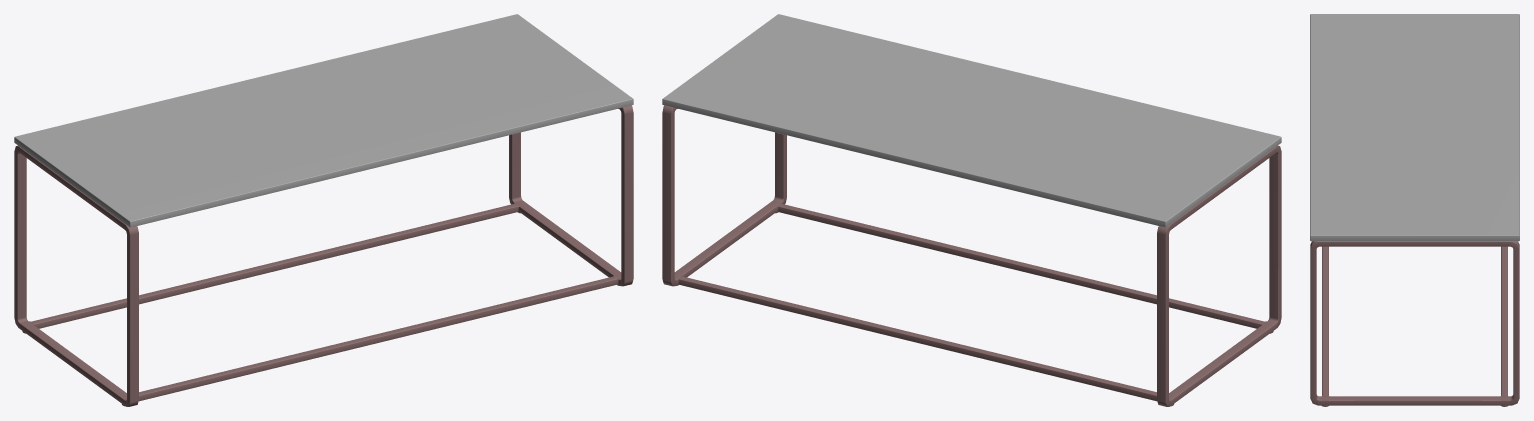
The model's file is coffee_table.fbx.
3 views of the same model, side by side, from view 1: azimuth 30°, elevation 25°; view 2: azimuth 150°, elevation 25°; view 3: azimuth 270°, elevation 25° (orthographic). The views are drawn at different scales.
Visible parts, largest first — view 1: coffee_table; view 2: coffee_table; view 3: coffee_table.
Boxes of the visible parts, x1,y1,x2,y2 form: coffee_table: (14, 14, 633, 406); coffee_table: (662, 14, 1281, 406); coffee_table: (1310, 14, 1519, 406).
Size of the model in its own units: 160 by 57.88 by 64.02.
